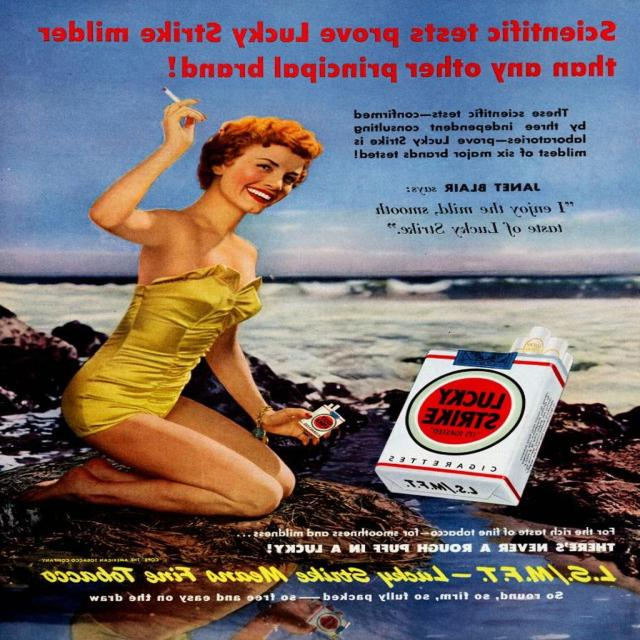smoking: (142, 76, 319, 230)
